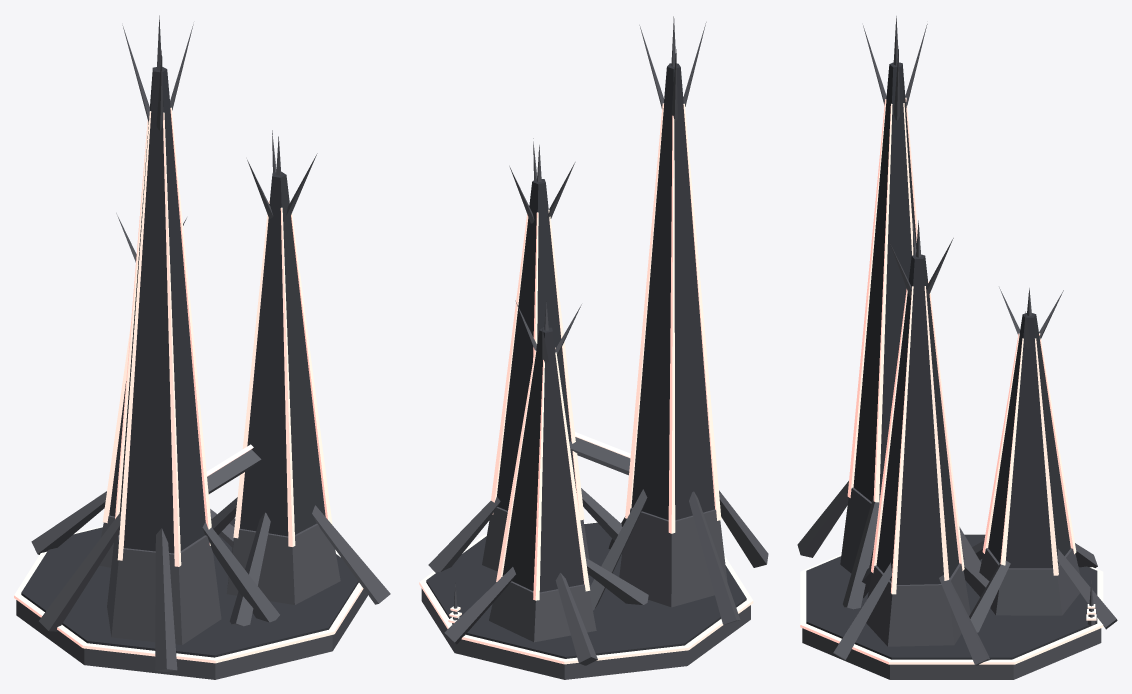
Rendered from zone_high_2_t3.glb.
3 views of the same model, side by side, from view 1: azimuth 30°, elevation 25°; view 2: azimuth 150°, elevation 25°; view 3: azimuth 270°, elevation 25° (orthographic). The views are drawn at different scales.
Visible parts, largest first — view 1: zone_high_2_t3; view 2: zone_high_2_t3, detail; view 3: zone_high_2_t3.
Part boxes in pixels (x1,y1,x2,y2): zone_high_2_t3: [14, 15, 390, 679]; zone_high_2_t3: [419, 16, 768, 679]; detail: [448, 432, 630, 624]; zone_high_2_t3: [797, 16, 1117, 679].
Size of the model in its own units: 29.14 by 57.21 by 28.88.
